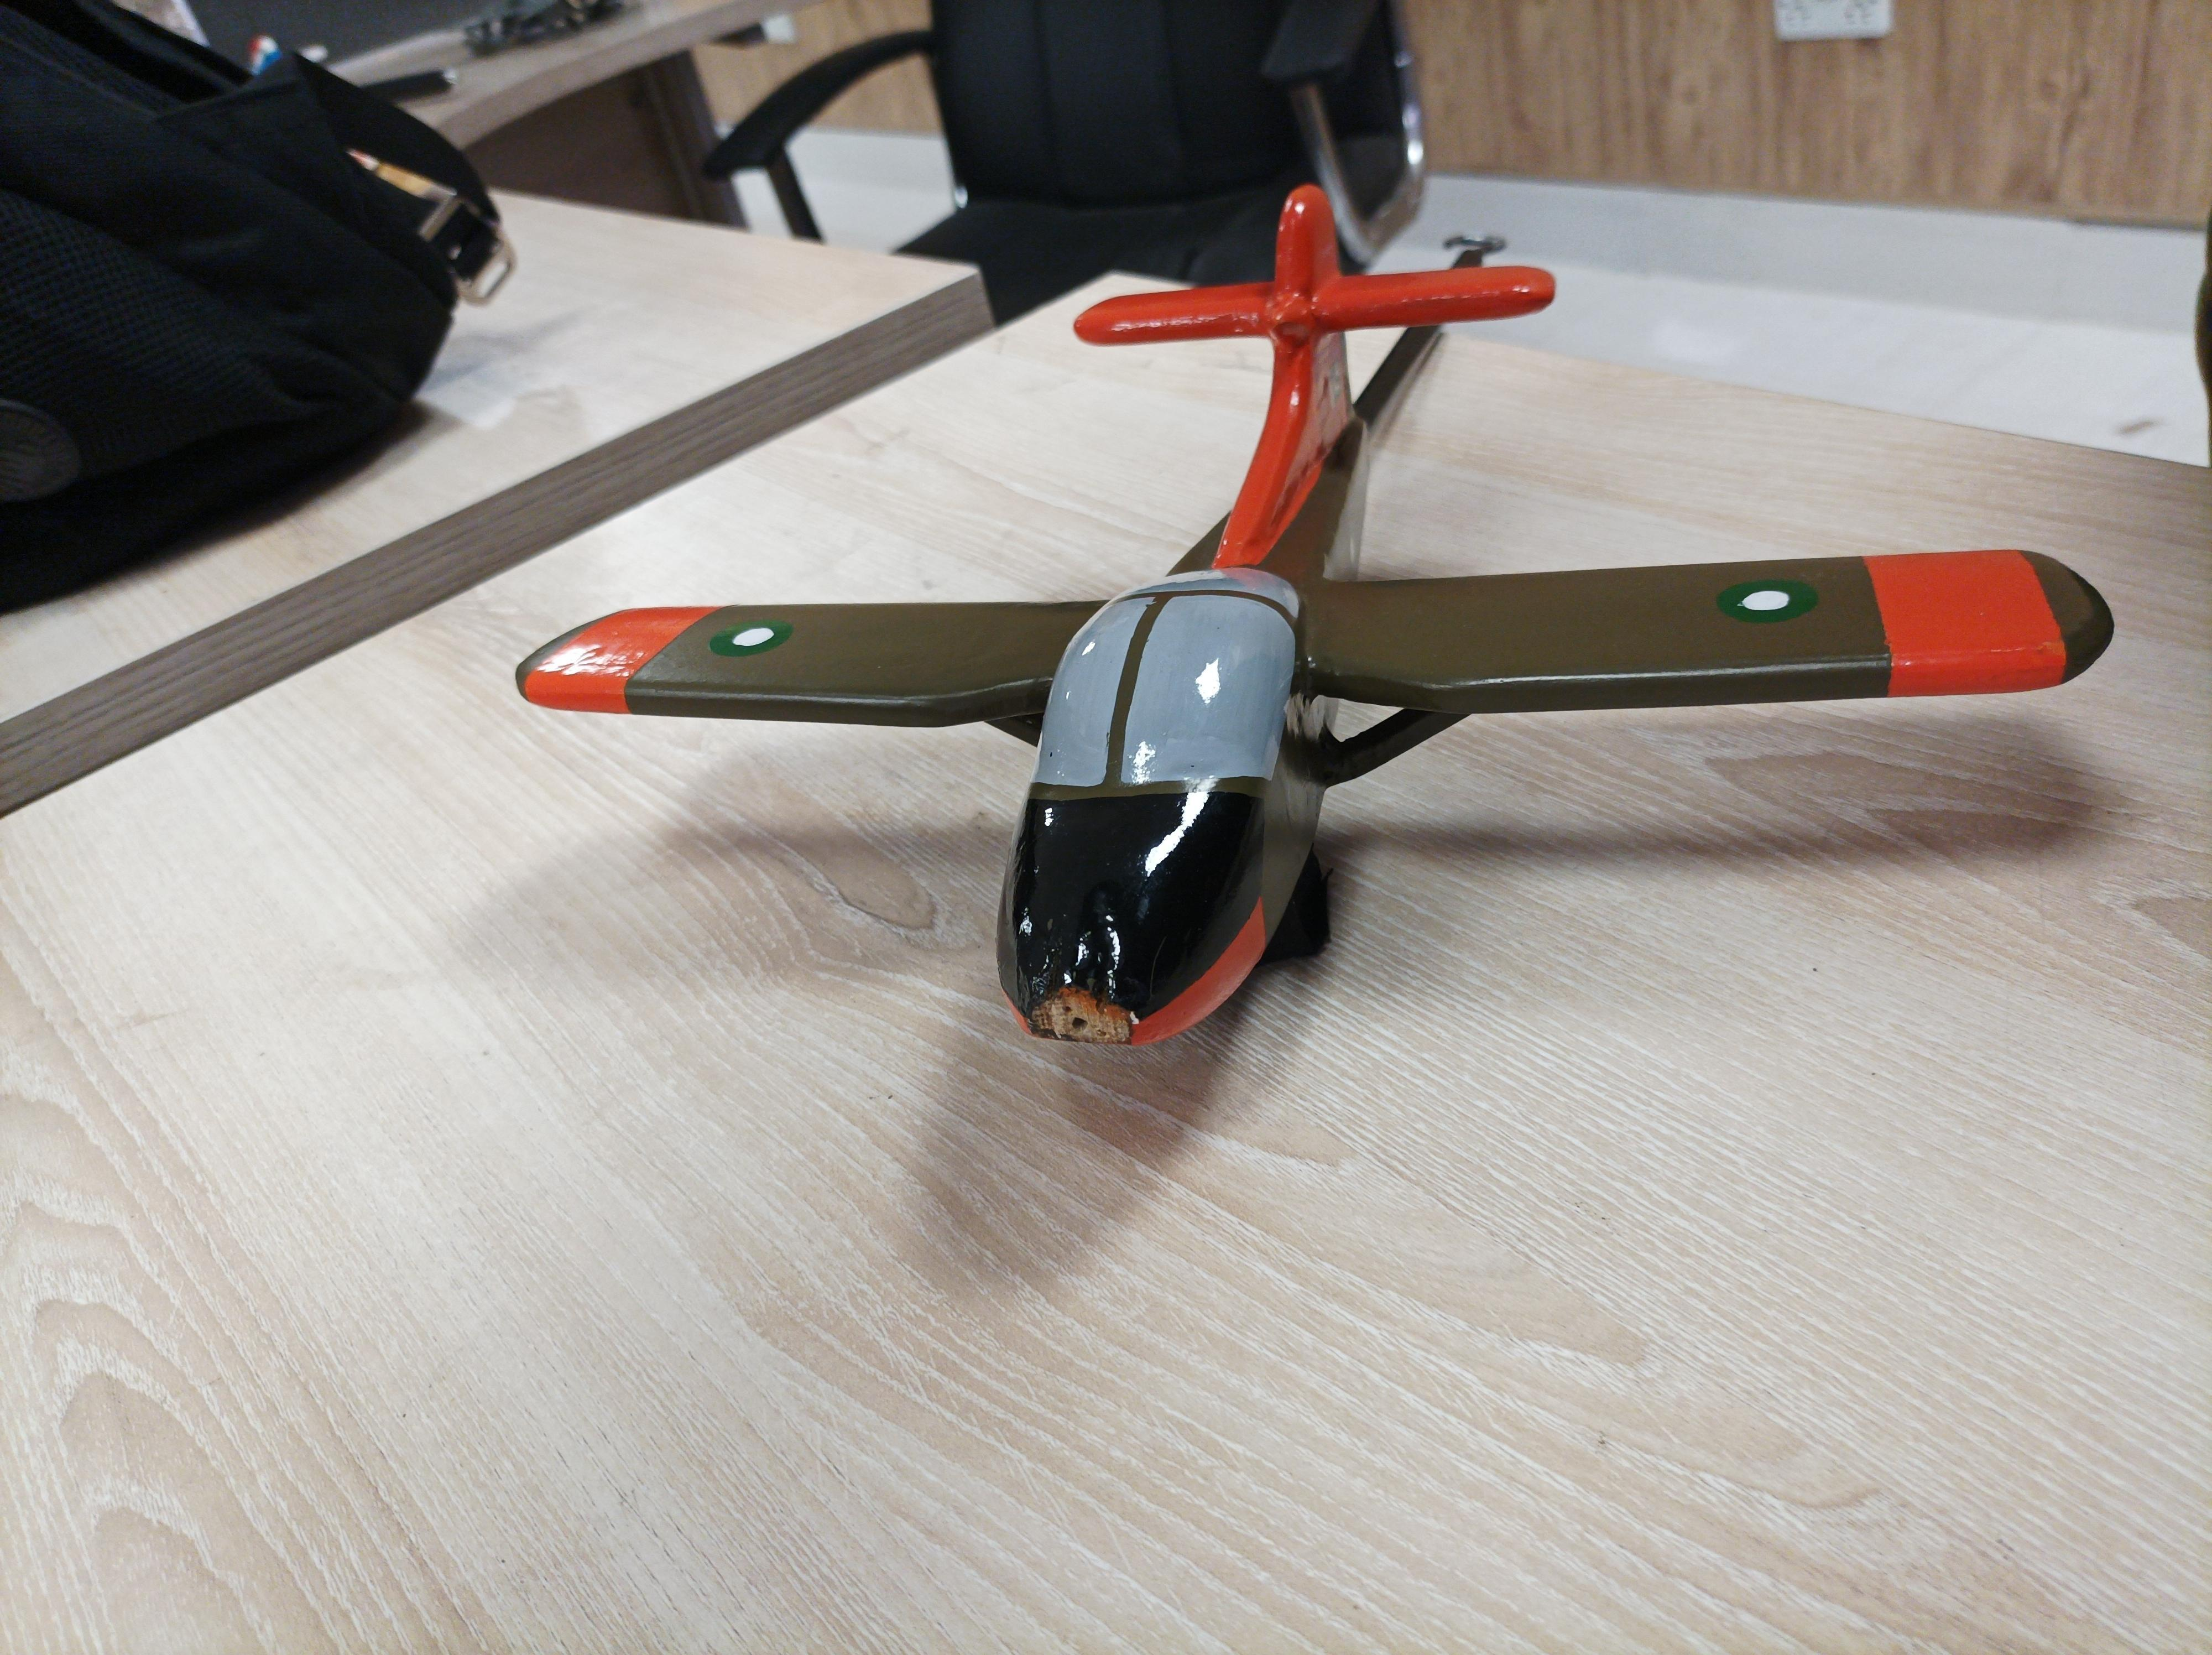Airplane: (467, 172, 2146, 1064)
